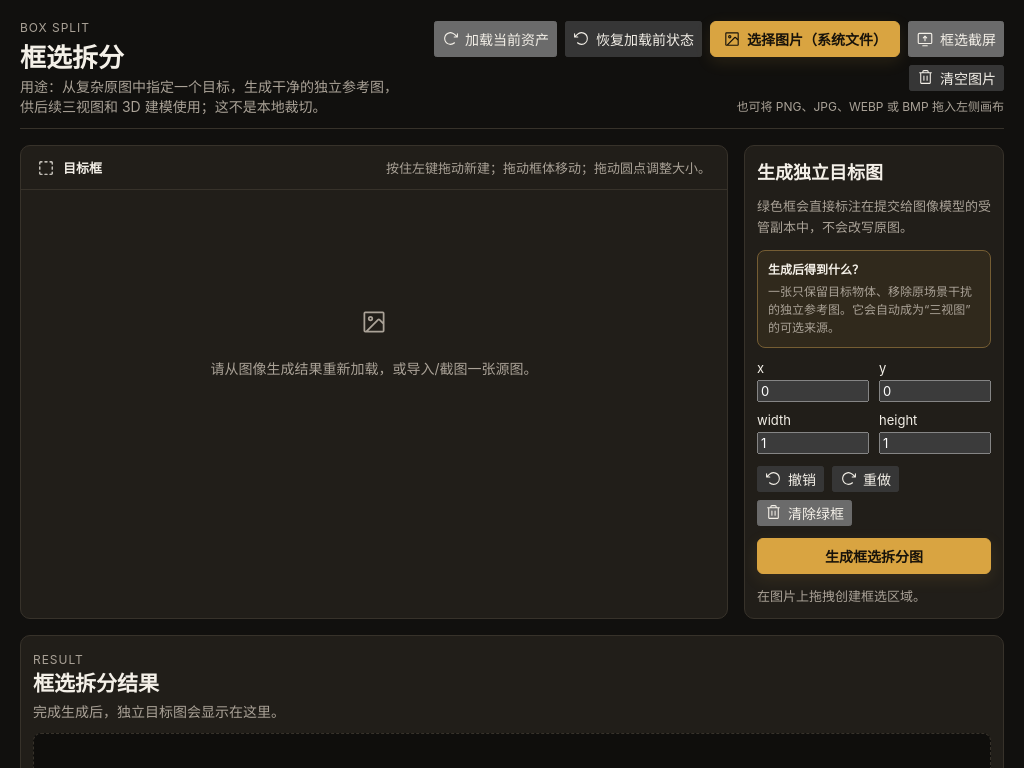
Test: SelectionWorkspace › does not load prompt or analysis assets as box-split images
Click the button "加载当前资产". click: (496, 39)
box: [434,21,557,57]
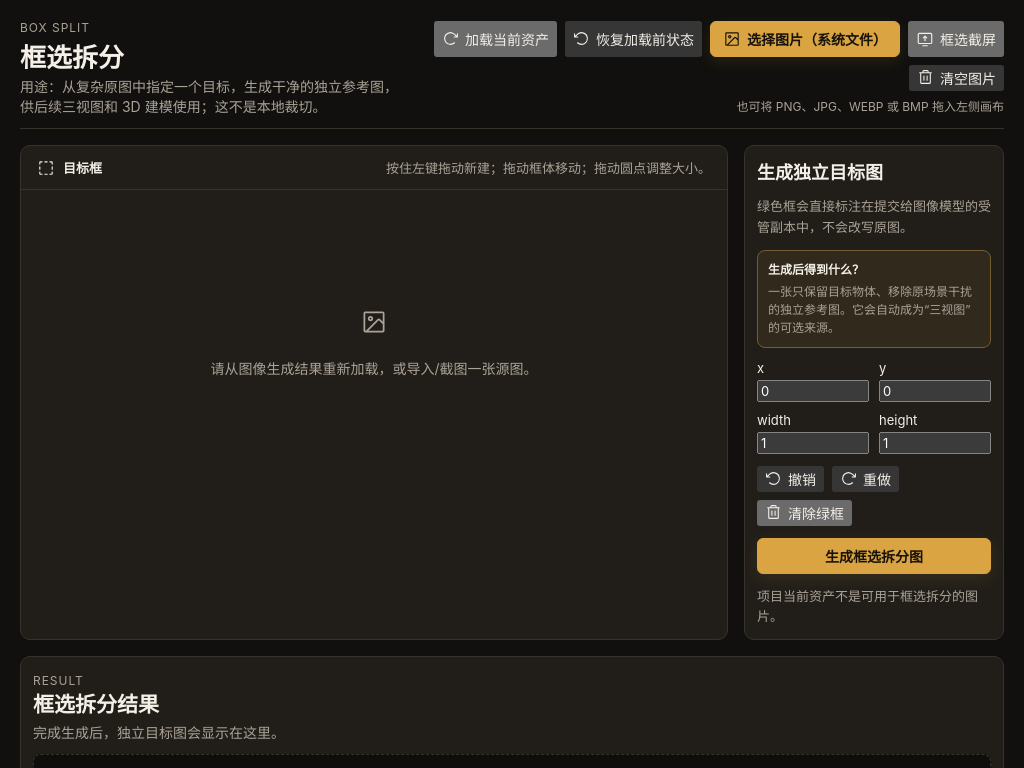
Result: the text "项目当前资产不是可用于框选拆分的图片。" is shown at [757,586,991,627]
